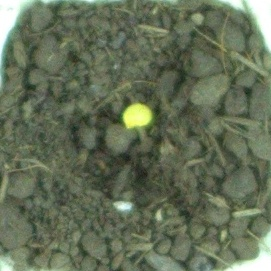chilli seed: (121, 100, 154, 130)
